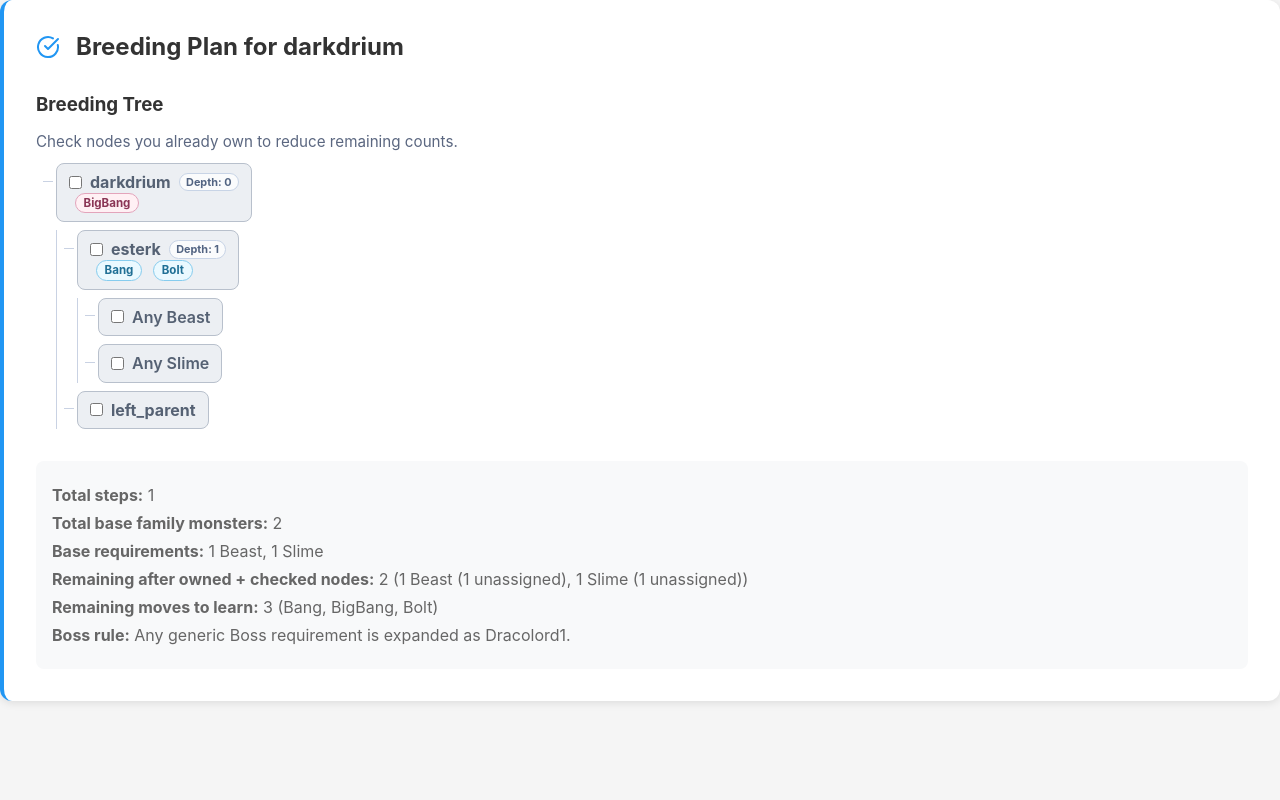
Test case: BreedingPlan tree interactions › shows remaining moves from all uncollapsed monster nodes and removes collapsed branch moves
Check: the element showing "Remaining moves to learn: 3 (Bang, BigBang, Bolt)" is shown, box [52,597,438,617]
Click the checkbox next to "esterk".
click(96, 249)  # box [90,243,103,256]
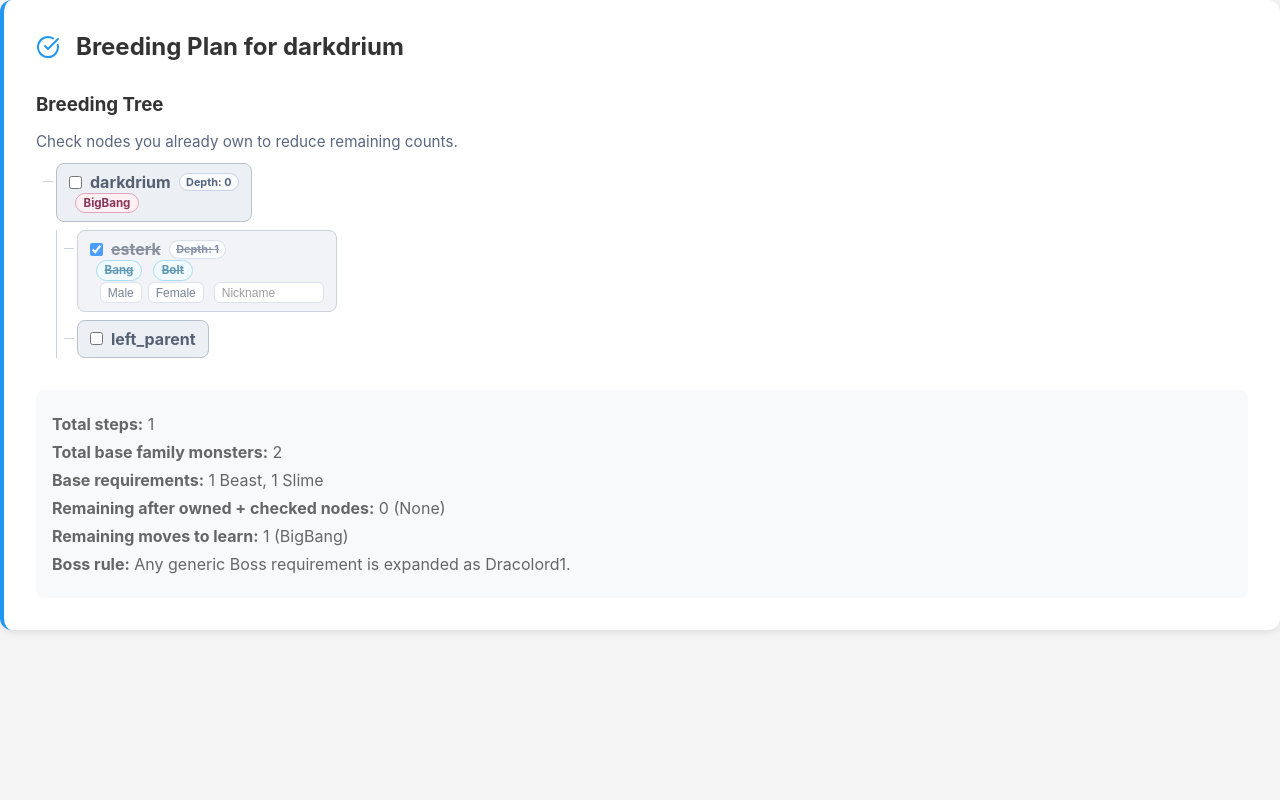
Check: the element showing "Remaining moves to learn: 1 (BigBang)" is shown, box [52,526,349,546]
